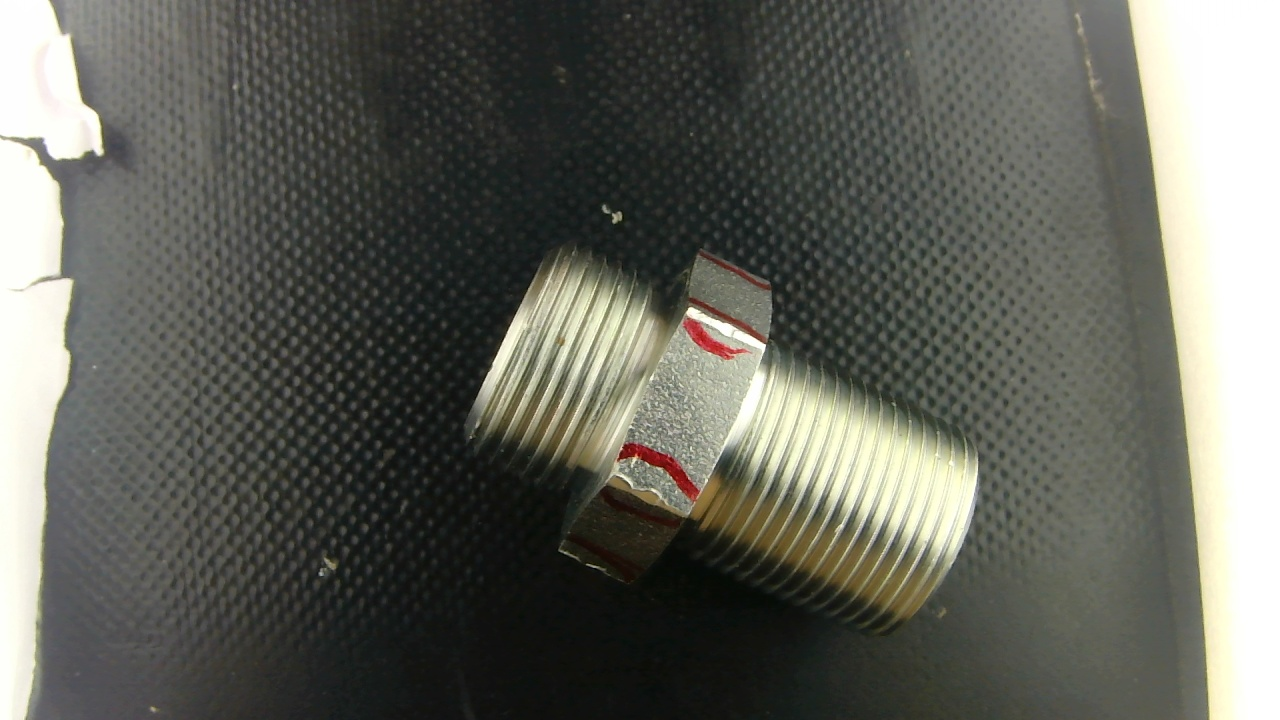Hex_damage: (598, 470, 688, 532)
